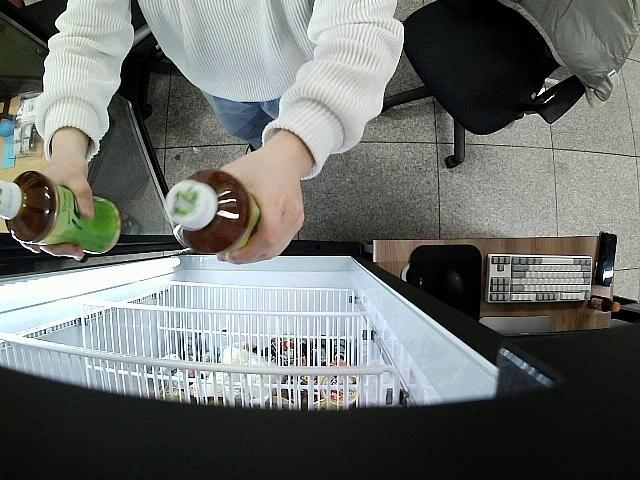19_17cha: (0, 170, 121, 255), (165, 168, 260, 257)
